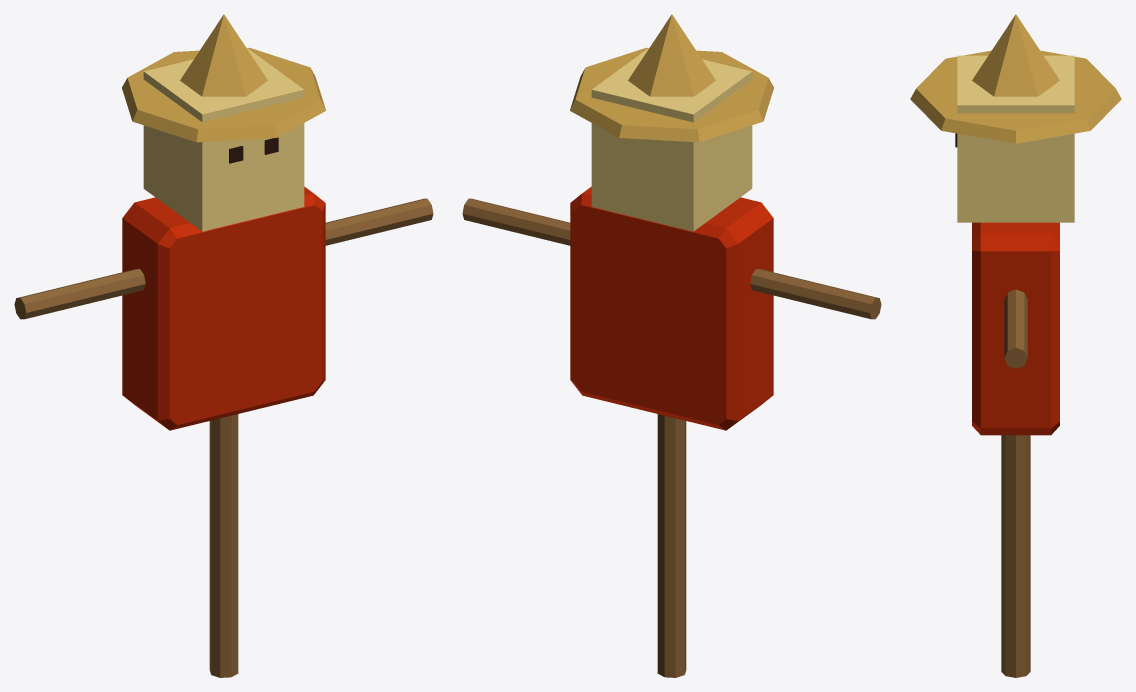
File: scarecrow.glb
The picture shows the model from 3 angles, left to right: view 1: azimuth 30°, elevation 25°; view 2: azimuth 150°, elevation 25°; view 3: azimuth 270°, elevation 25°; orthographic projection.
Parts seen in each view (by area): view 1: scarecrow_fabric, scarecrow_wood, scarecrow_plain; view 2: scarecrow_fabric, scarecrow_wood, scarecrow_plain; view 3: scarecrow_fabric, scarecrow_plain, scarecrow_wood.
Boxes of the visible parts, x1,y1,x2,y2 form: scarecrow_fabric: [122, 47, 325, 430]; scarecrow_wood: [14, 198, 433, 677]; scarecrow_plain: [122, 14, 325, 163]; scarecrow_fabric: [570, 47, 773, 430]; scarecrow_wood: [462, 198, 881, 677]; scarecrow_plain: [570, 14, 773, 142]; scarecrow_fabric: [957, 55, 1074, 435]; scarecrow_plain: [910, 14, 1121, 147]; scarecrow_wood: [1001, 289, 1030, 677].
Bounding box in the file's own units: 1.6 × 2.47 × 0.72.
